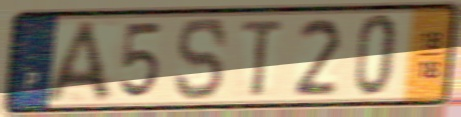0: (354, 12, 404, 100)
2: (293, 15, 345, 99)
5: (117, 20, 164, 101)
A: (40, 18, 117, 106)
S: (173, 15, 230, 104)
T: (239, 16, 288, 100)
